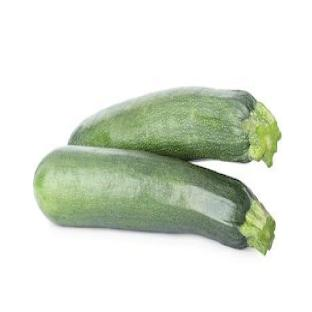Zucchini: (34, 147, 274, 254), (69, 88, 280, 166)
